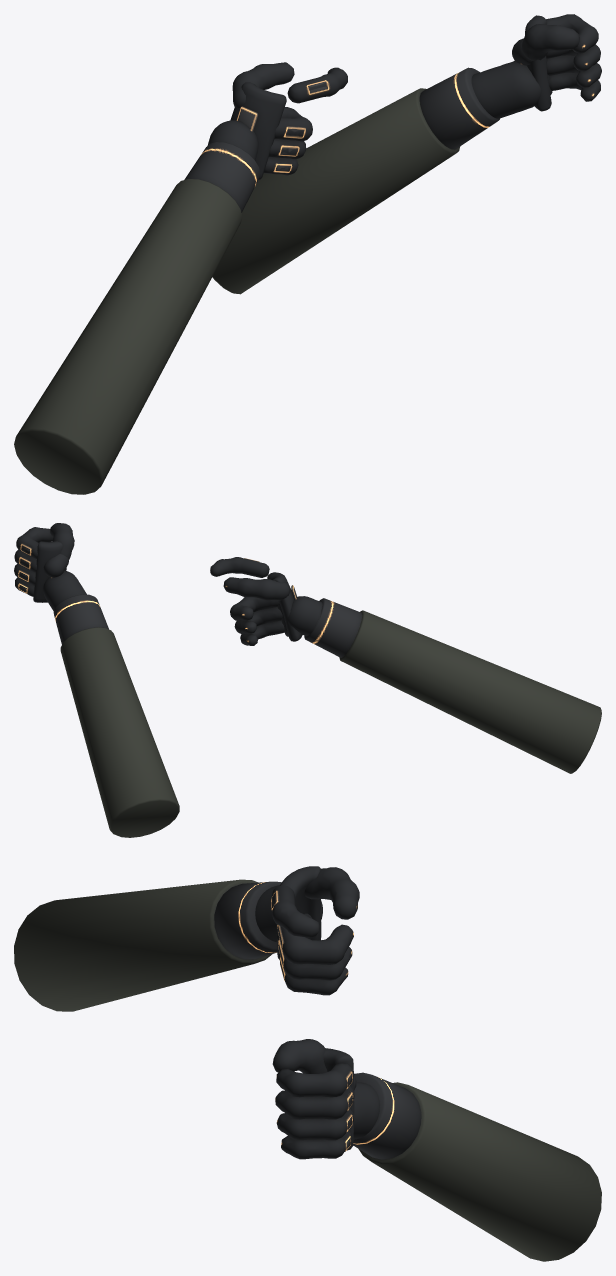
The model's file is fp_arms_saiga.gltf.
The picture shows the model from 3 angles, top to bottom: view 1: azimuth 30°, elevation 25°; view 2: azimuth 150°, elevation 25°; view 3: azimuth 270°, elevation 25°; orthographic projection. The views are drawn at different scales.
Parts seen in each view (by area): view 1: fp_arms_saiga; view 2: fp_arms_saiga; view 3: fp_arms_saiga.
Part boxes in pixels (box(x1,y1,x2,y2)): fp_arms_saiga: box(14, 14, 601, 494); fp_arms_saiga: box(14, 523, 601, 837); fp_arms_saiga: box(14, 866, 601, 1261).
Size of the model in its own units: 0.7379 by 0.3149 by 0.4891.
1 material, 1 textured.
